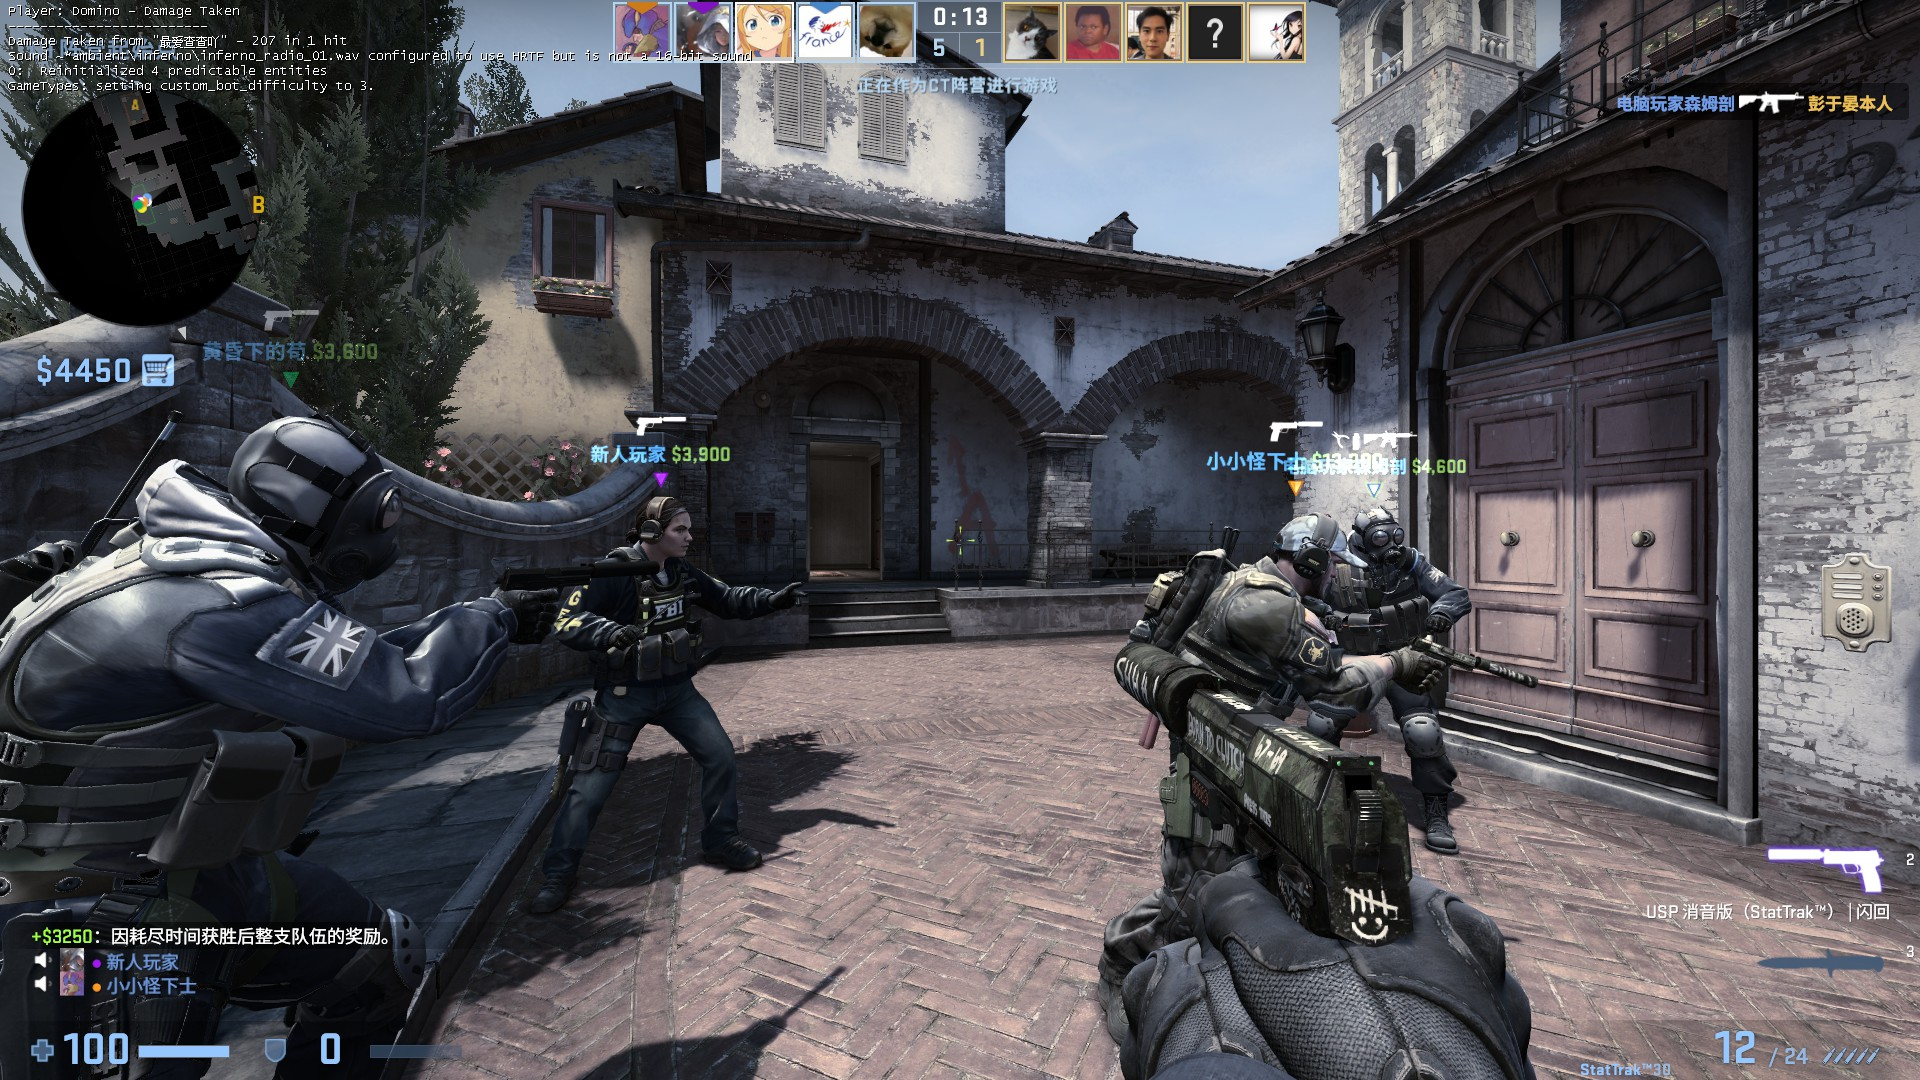head: (226, 408, 407, 590), (1276, 512, 1349, 597), (631, 494, 695, 563), (1346, 508, 1402, 559)
